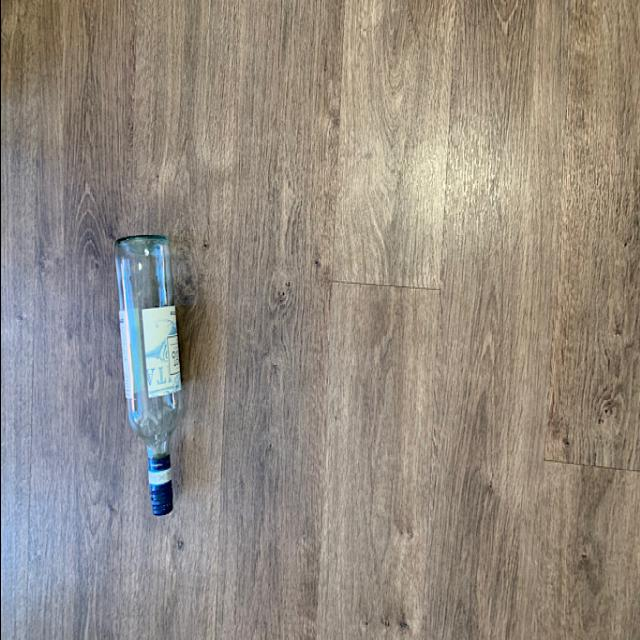litter: (112, 230, 186, 520)
